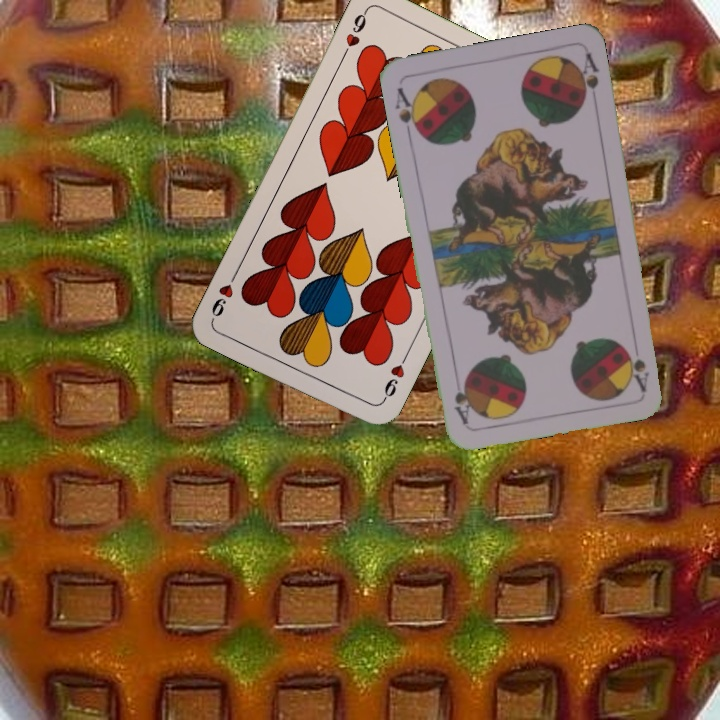H9: (337, 6, 370, 62), (378, 350, 411, 406)
SA: (391, 83, 424, 140), (624, 346, 652, 393)
